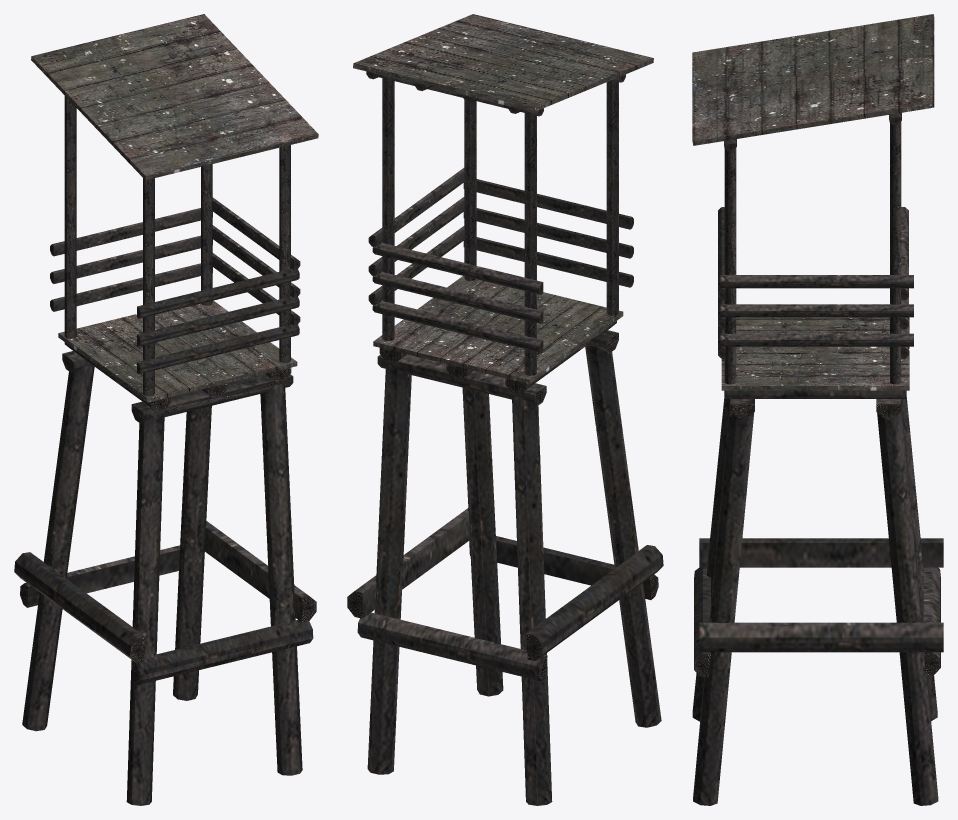
The model's file is Training_Watchtower.fbx.
3 views of the same model, side by side, from view 1: azimuth 30°, elevation 25°; view 2: azimuth 150°, elevation 25°; view 3: azimuth 270°, elevation 25° (orthographic). The views are drawn at different scales.
Parts seen in each view (by area): view 1: F_hlaska; view 2: F_hlaska; view 3: F_hlaska.
Boxes of the visible parts, x1,y1,x2,y2 form: F_hlaska: (14,14,318,805); F_hlaska: (347,14,663,805); F_hlaska: (692,14,943,805).
Size of what is drawn, in the model's own units: 186 by 642 by 206.
